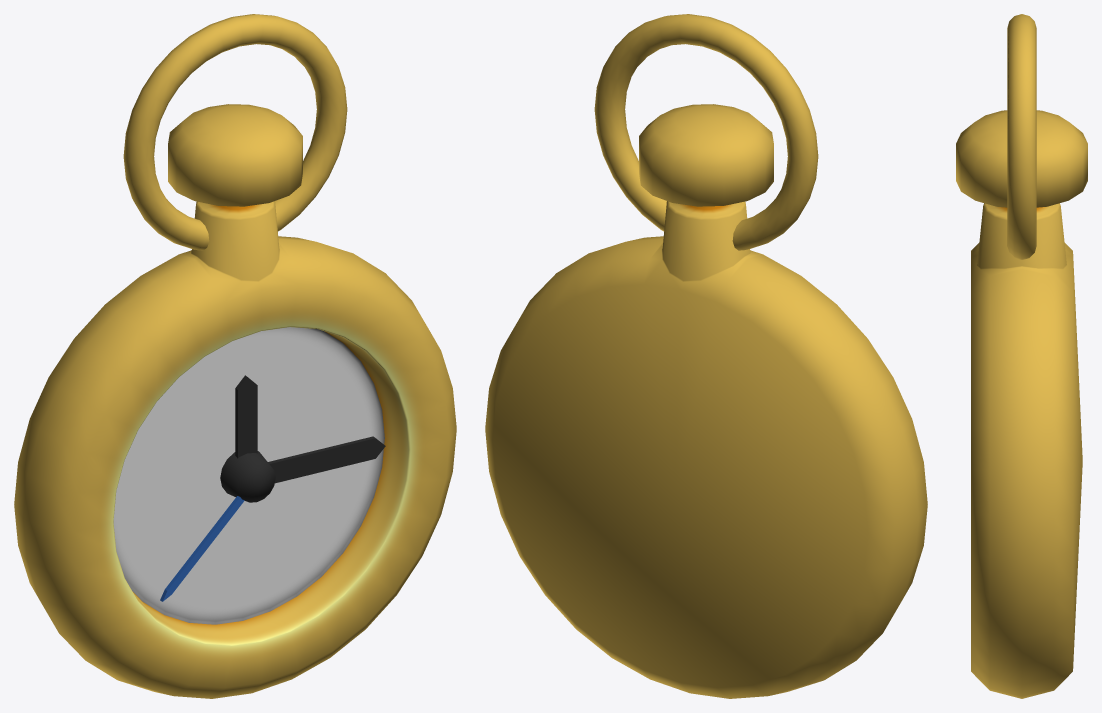
The model's file is Watch.fbx.
3 views of the same model, side by side, from view 1: azimuth 30°, elevation 25°; view 2: azimuth 150°, elevation 25°; view 3: azimuth 270°, elevation 25° (orthographic). The views are drawn at different scales.
Visible parts, largest first — view 1: Watch; view 2: Watch; view 3: Watch.
Part boxes in pixels (x1,y1,x2,y2): Watch: (14, 14, 456, 698); Watch: (485, 14, 927, 698); Watch: (956, 14, 1087, 698).
Size of the model in its own units: 56.62 by 85.53 by 15.7.
